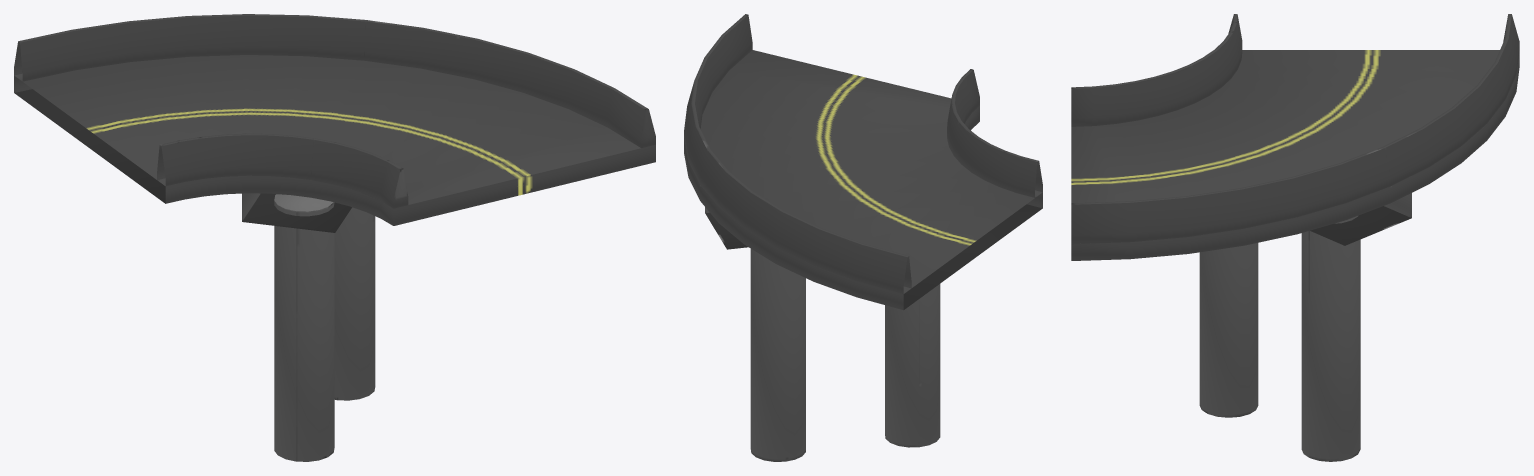
Rendered from corner.glb.
3 renders of one model, left to right at view 1: azimuth 30°, elevation 25°; view 2: azimuth 150°, elevation 25°; view 3: azimuth 270°, elevation 25°, orthographic. The views are drawn at different scales.
Visible parts, largest first — view 1: Cylinder.009; view 2: Cylinder.009; view 3: Cylinder.009.
Part boxes in pixels (x1=…): Cylinder.009: x1=14, y1=14, x2=655, y2=461; Cylinder.009: x1=684, y1=14, x2=1042, y2=461; Cylinder.009: x1=1071, y1=14, x2=1519, y2=461.
Size of the model in its own units: 48.96 by 38.23 by 47.79.
